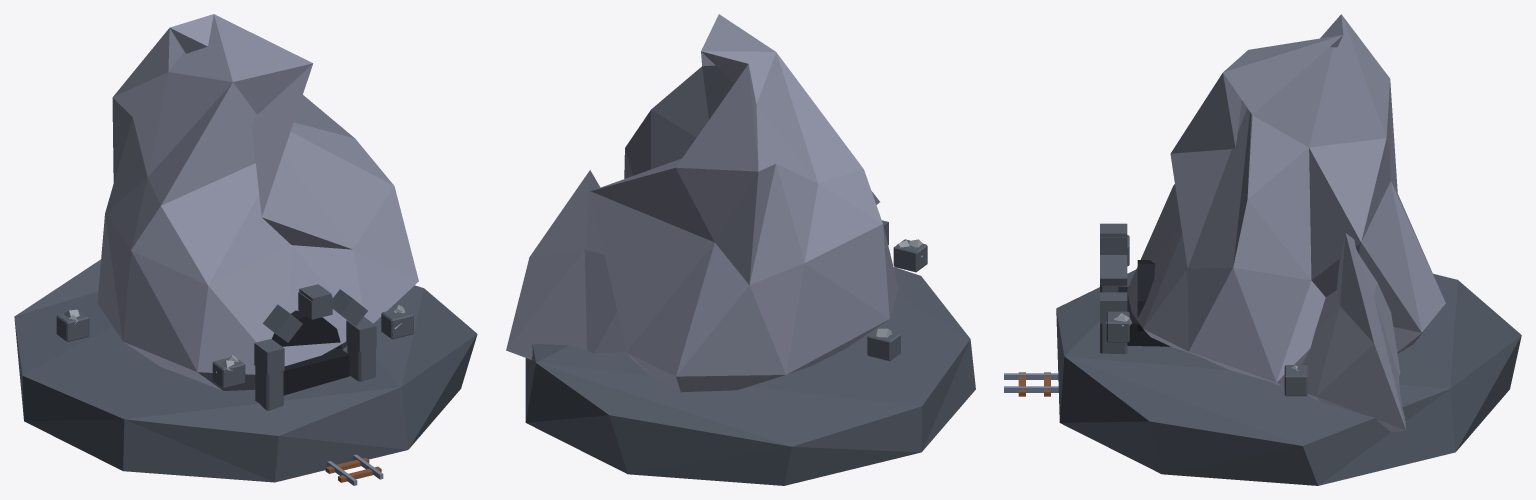
File: SM_Mountain_Iron.fbx
The picture shows the model from 3 angles, left to right: view 1: azimuth 30°, elevation 25°; view 2: azimuth 150°, elevation 25°; view 3: azimuth 270°, elevation 25°; orthographic projection. The views are drawn at different scales.
Visible parts, largest first — view 1: SM_Mountain_Iron; view 2: SM_Mountain_Iron; view 3: SM_Mountain_Iron.
Part boxes in pixels (left/top/right/bottom): SM_Mountain_Iron: left=14, top=14, right=477, bottom=485; SM_Mountain_Iron: left=506, top=14, right=975, bottom=485; SM_Mountain_Iron: left=1004, top=14, right=1521, bottom=485.
Bounding box in the file's own units: 10.26 × 8.7 × 11.35.
